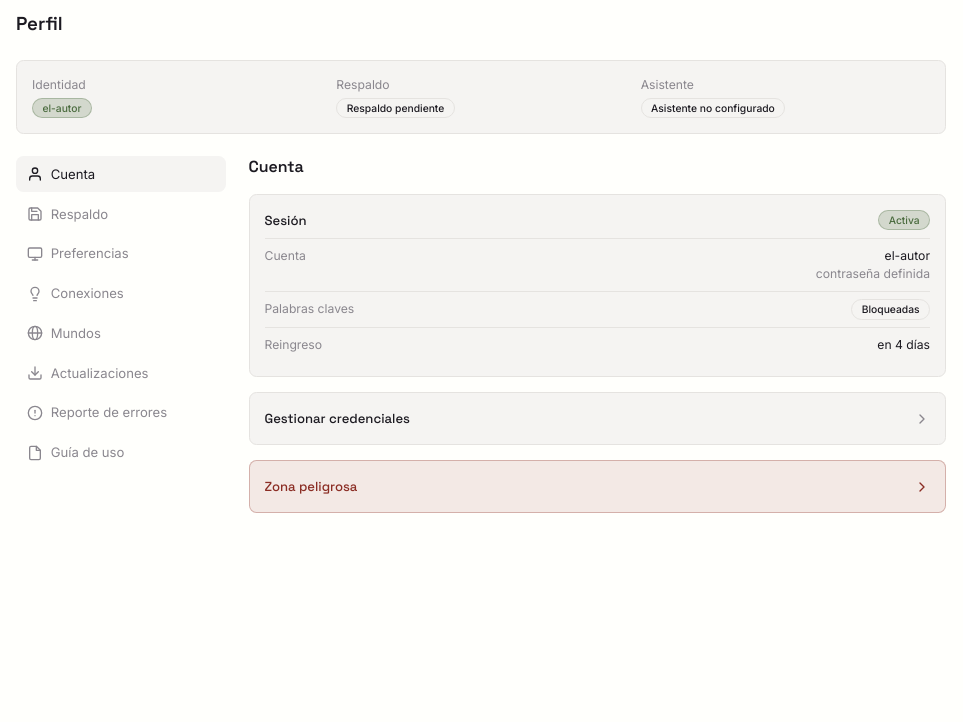
Scenario: ProfilePage account section (credentials mode) › adjusts the reauth interval (S-VC-05a)
The image size is (963, 722).
Click the button "Gestionar credenciales" at coordinates (337, 419), box [250,393,945,444]
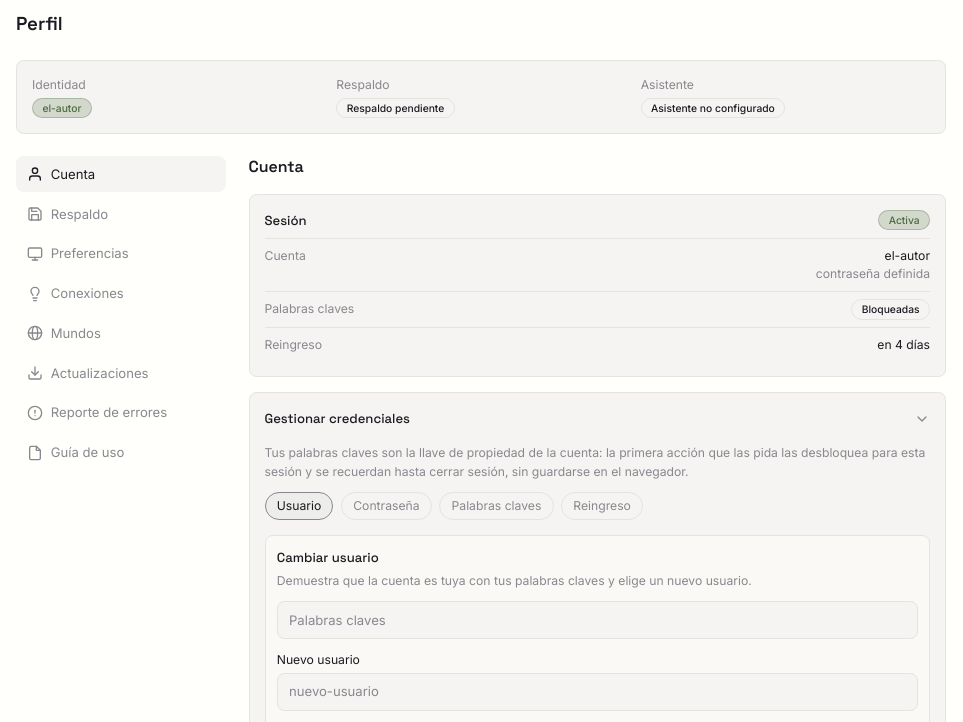
Click the button "Reingreso" at coordinates (602, 506), box [561,492,643,520]
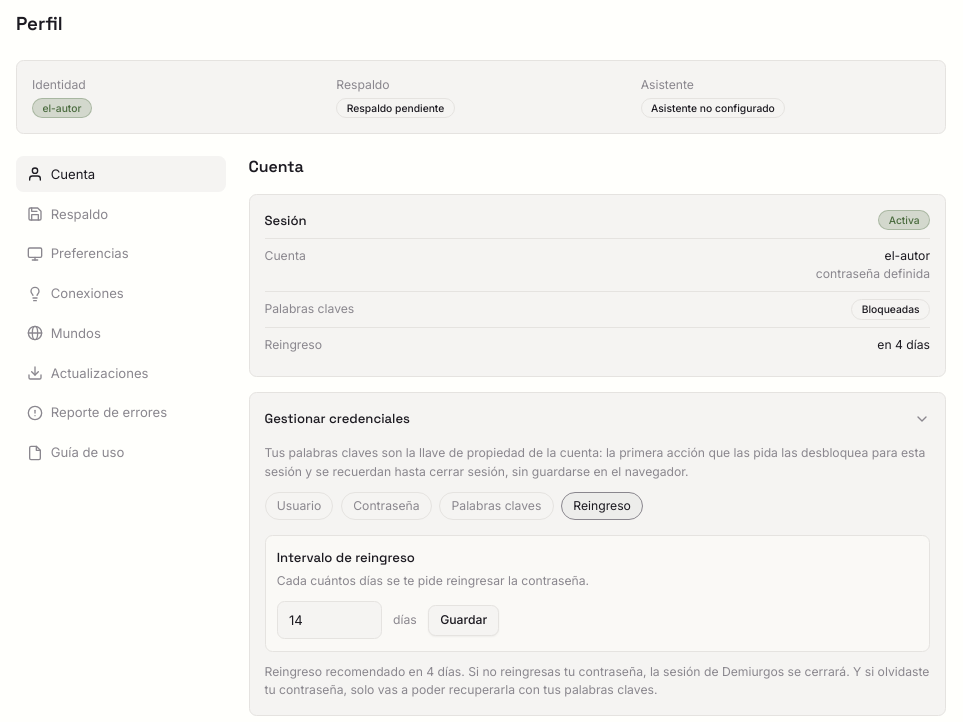
Replace the text in the number field named "Días entre reingresos" with "7" at coordinates (329, 620), box [277,601,382,639]
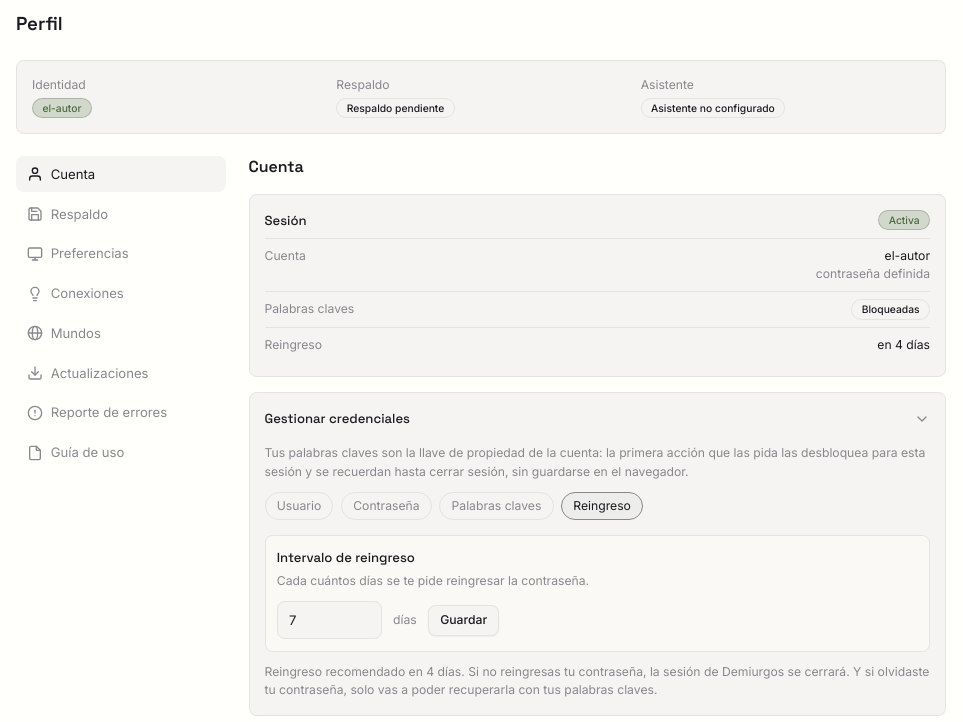
Click the button "Guardar" at coordinates (464, 620), box [428,605,499,636]
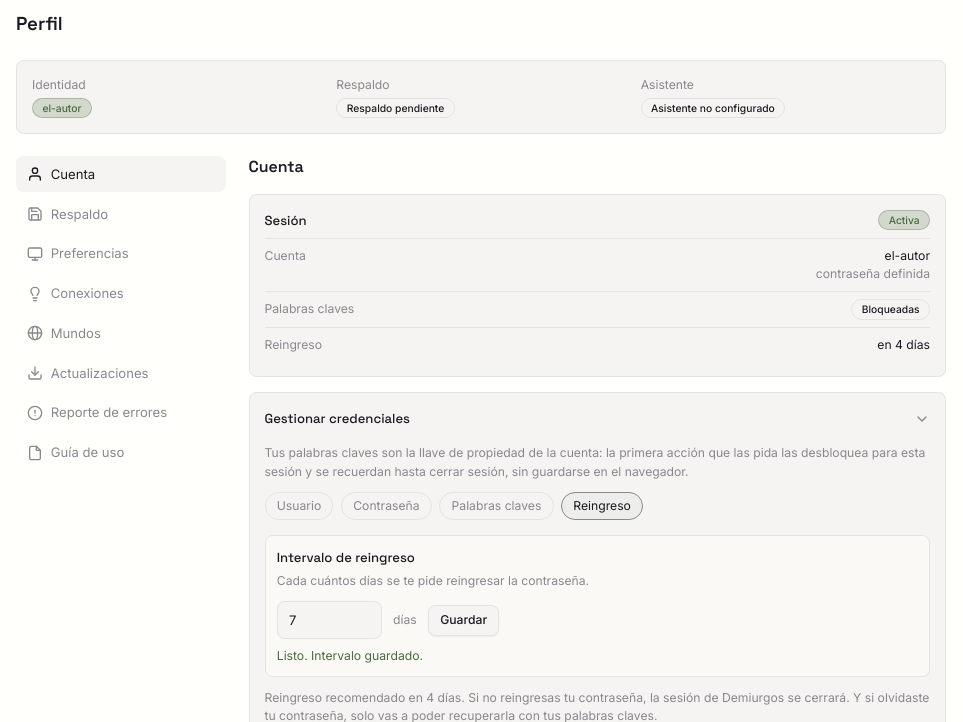
Now the text "Listo. Intervalo guardado." is shown, box [277,648,423,663]
